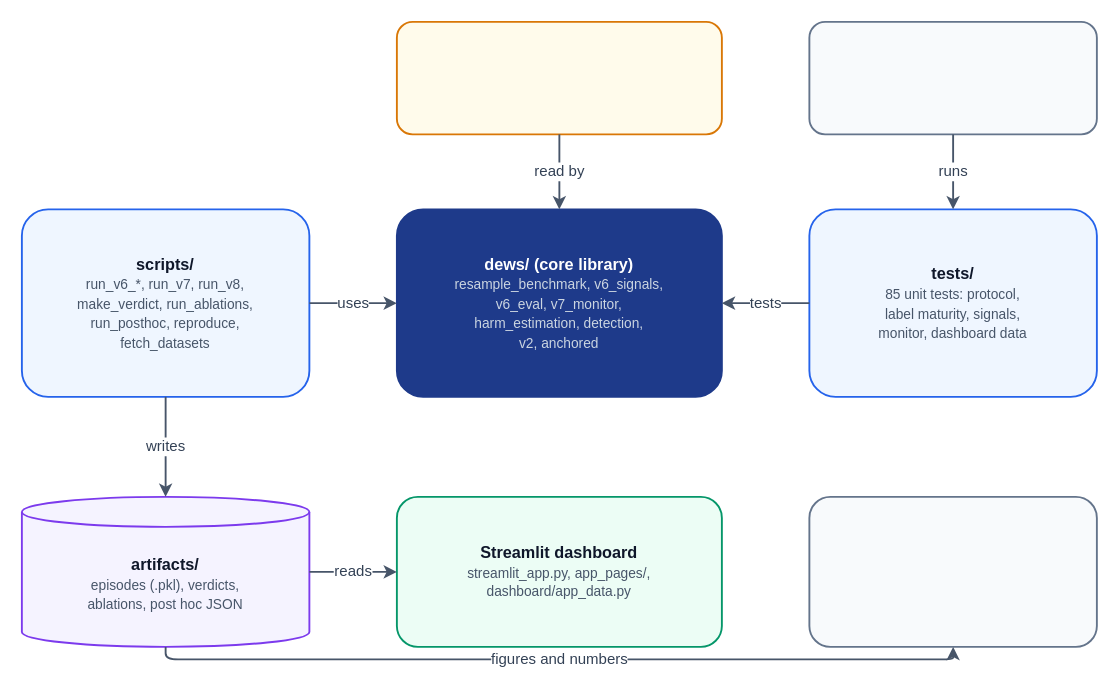
The diagram is 1120 pixels wide and 693 high, and some of its shapes have lost their labels. The shapes that lost their labels are listed below. From the top down, each one's centre as x and y in pixels, then its label:
At [558,77]: "Frozen configs v6/v7/v8/v10_config.py, frozen_*.json + SHA-256".
At [952,77]: "GitHub Actions CI Ruff + pytest on 3.10-3.12, benchmark gate".
At [952,571]: "docs/ and paper/ protocols, verdicts, IEEE paper, this report".
